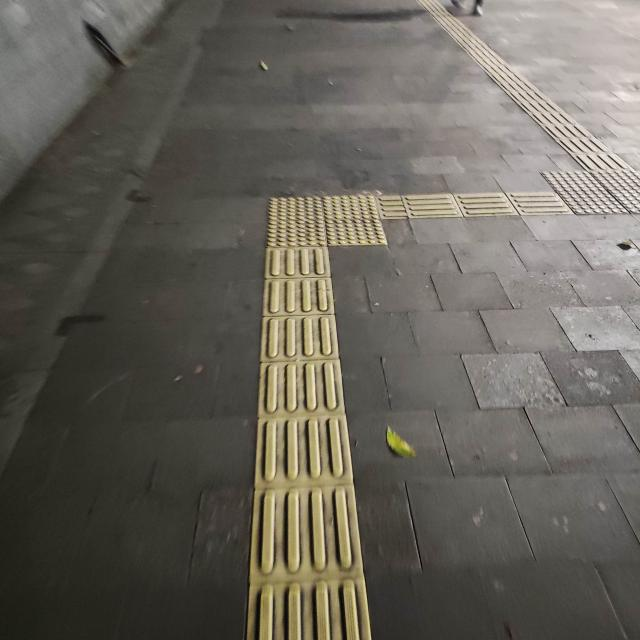kanan: (245, 181, 480, 257)
